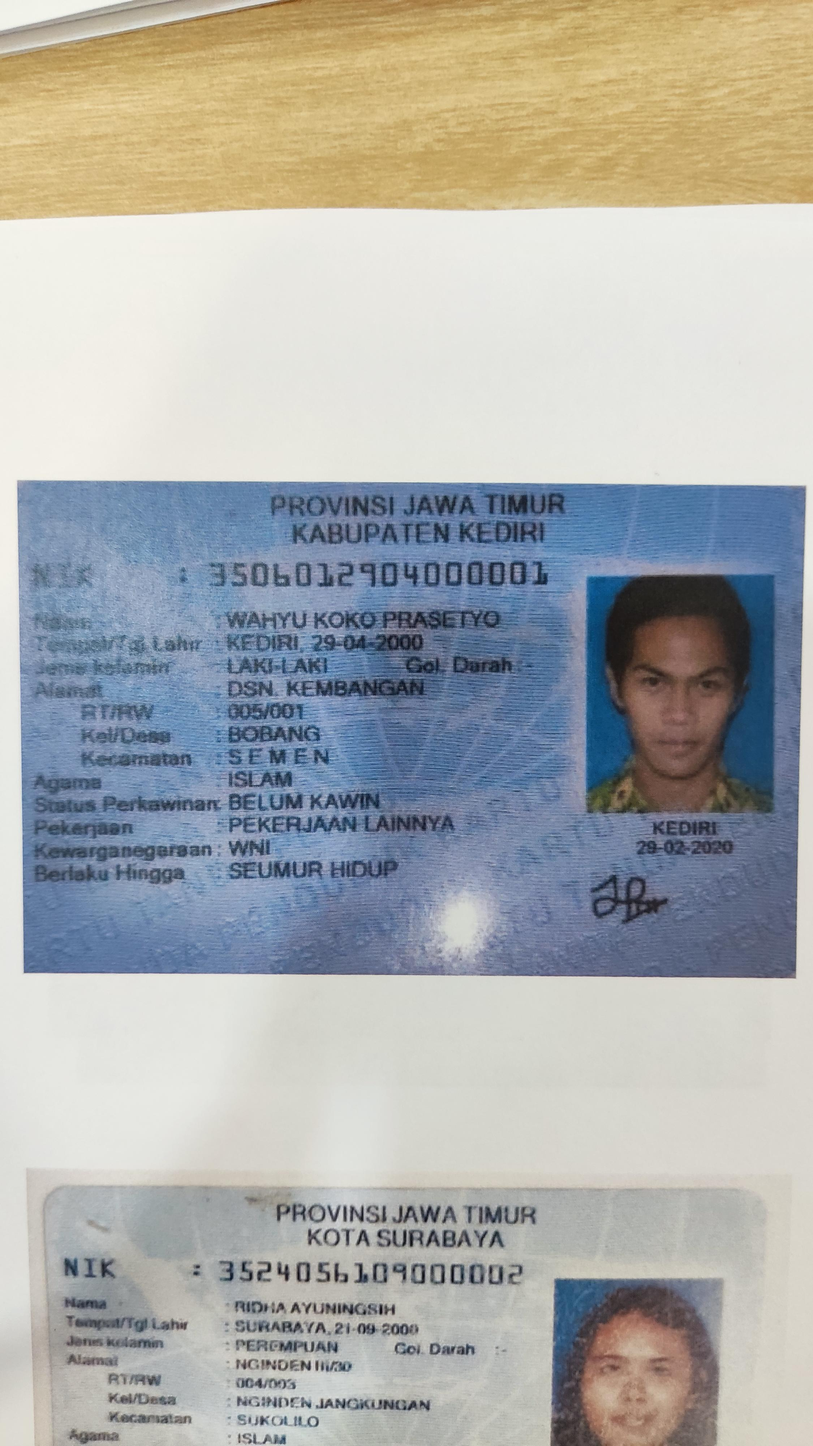ID-card: (19, 487, 795, 981)
